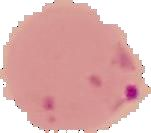parasitized: (90, 46, 140, 119)
